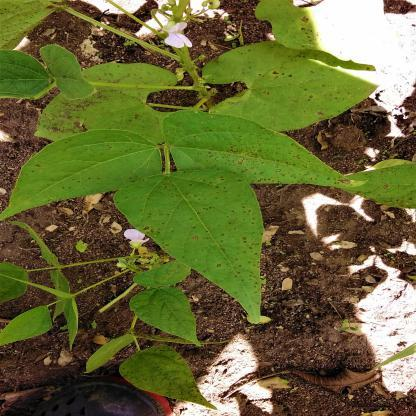Beans_Angular_LeafSpot: (119, 171, 268, 324), (161, 110, 368, 190), (8, 134, 162, 218), (202, 45, 362, 125)
